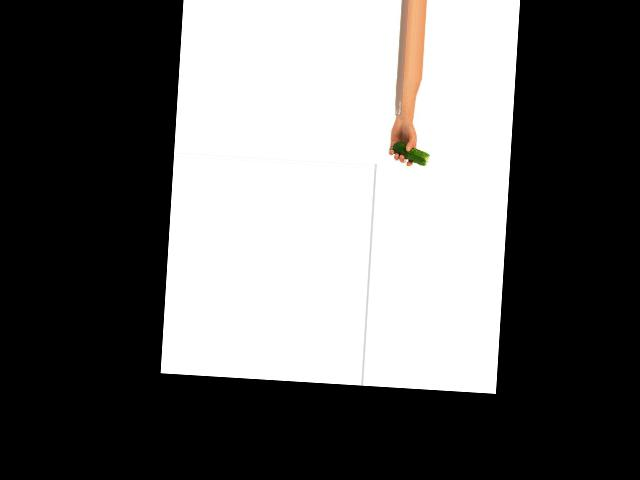cucumber: (391, 141, 430, 165)
